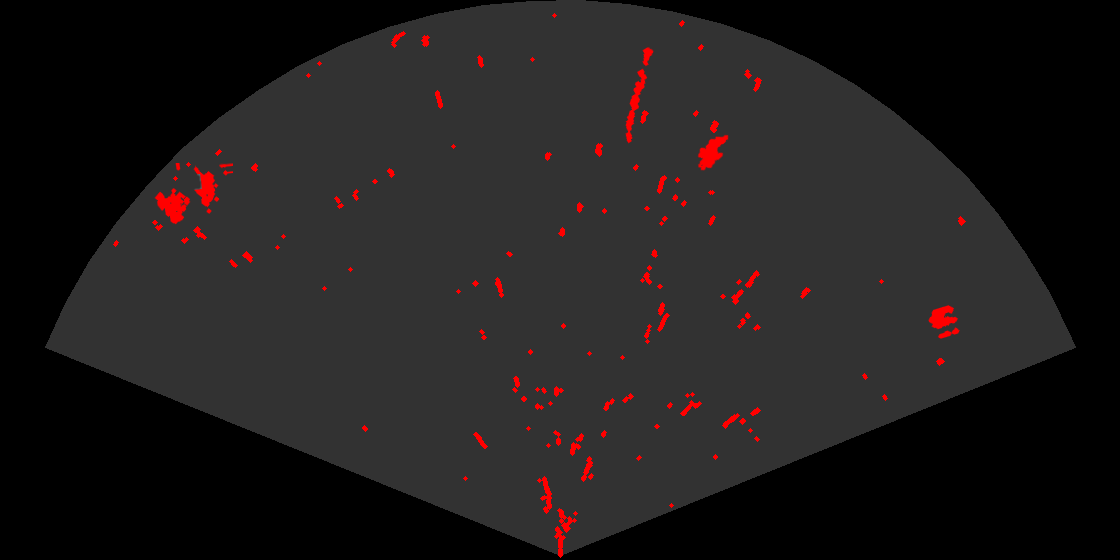AUV: (696, 133, 730, 172)
ball: (927, 304, 961, 340)
cage: (153, 163, 233, 226)
chain: (624, 45, 655, 145)
